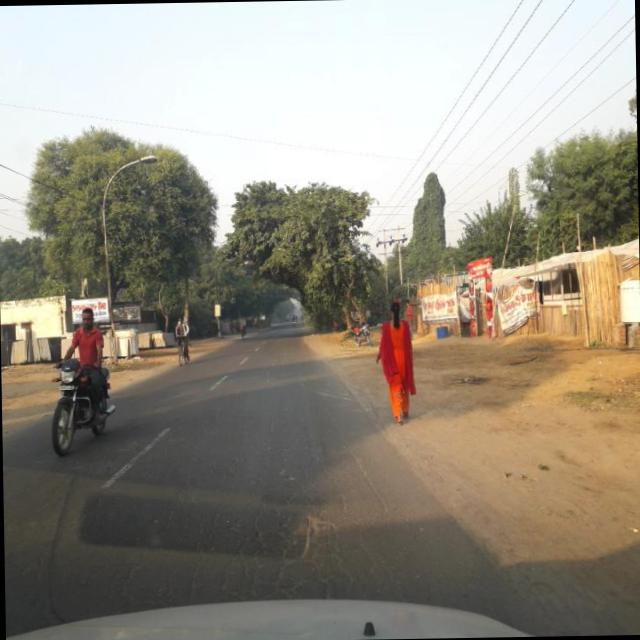crack: (107, 497, 399, 601)
